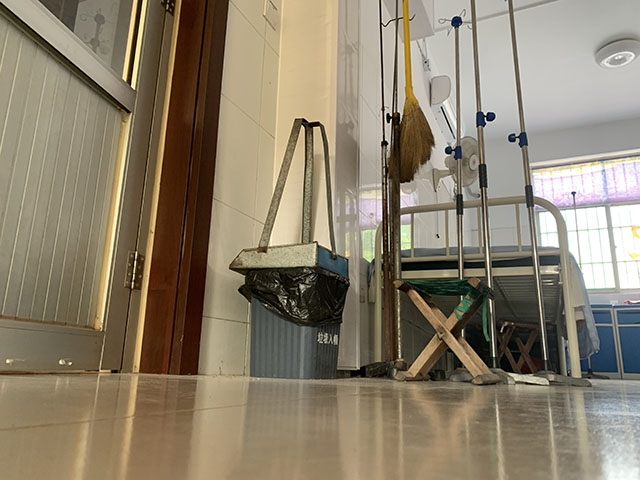bed: (365, 192, 600, 379)
cabinet: (581, 303, 640, 381)
stool: (393, 276, 505, 386), (496, 320, 553, 375)
trashcan: (237, 266, 350, 380)
